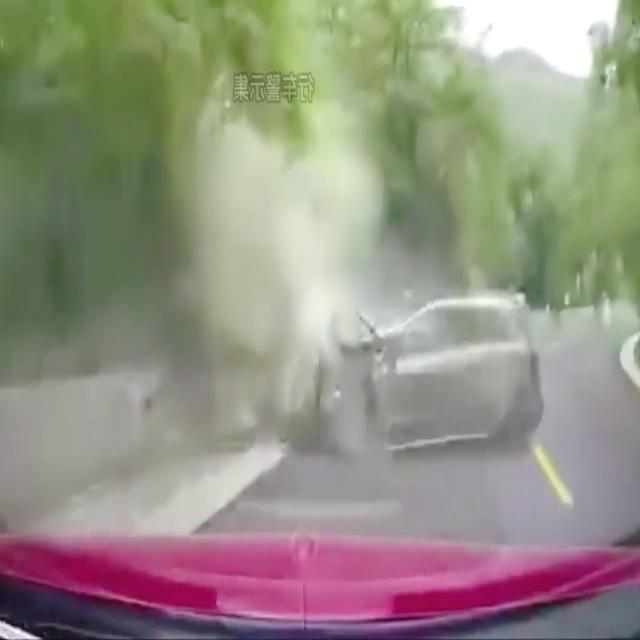accident: (288, 283, 552, 463)
